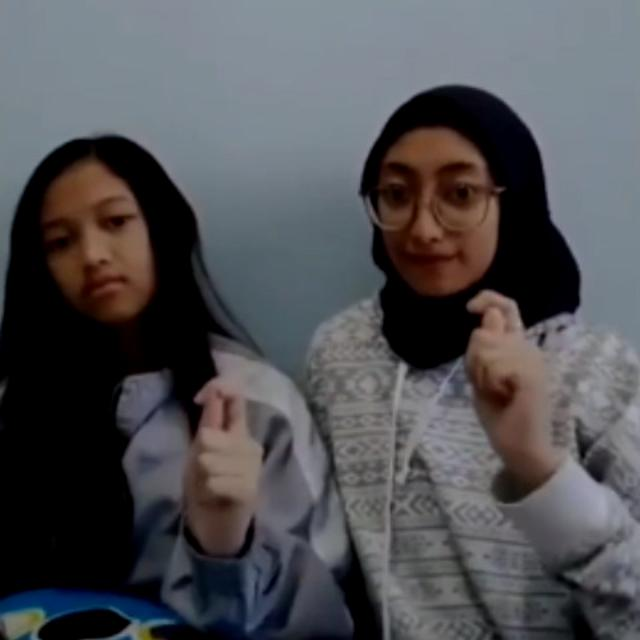T: (463, 289, 555, 456), (186, 378, 264, 526)
